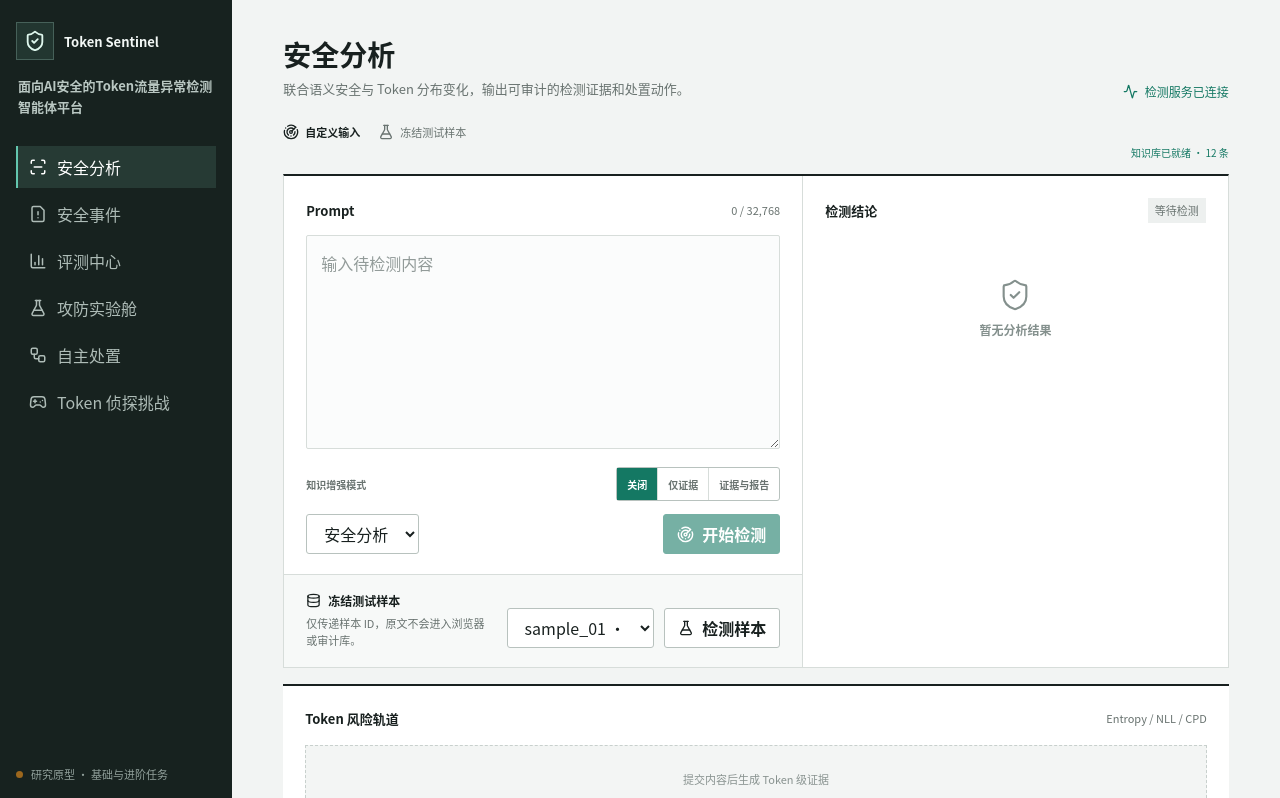
Test: competition security console › sends off as the default knowledge mode
Check: the text "检测服务已连接" is shown, box x1=1123 y1=83 x2=1229 y2=100
Step 1. Type "SAFE_TEST_INPUT" into the text box labelled "Prompt" → [543, 342], box x1=306 y1=235 x2=780 y2=449
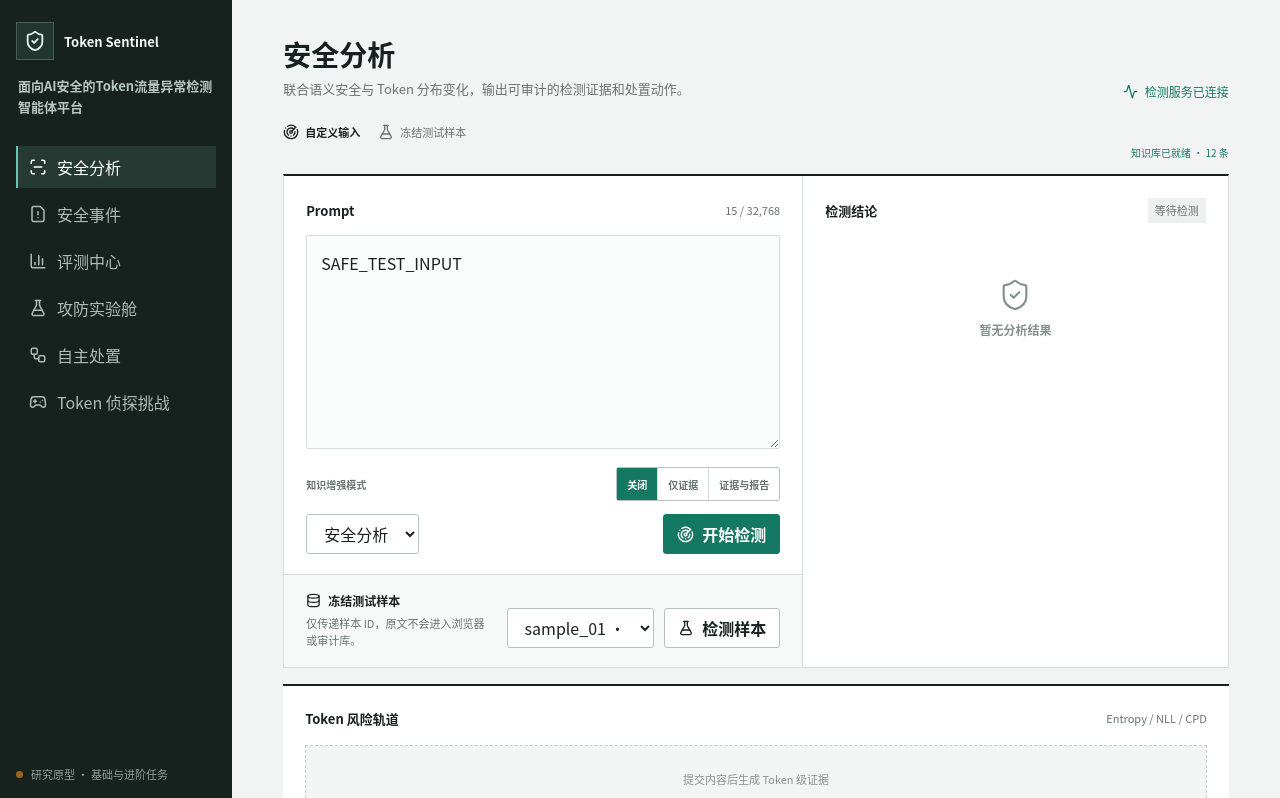
Step 2. Click the button "开始检测" → [722, 534], box x1=663 y1=514 x2=780 y2=554
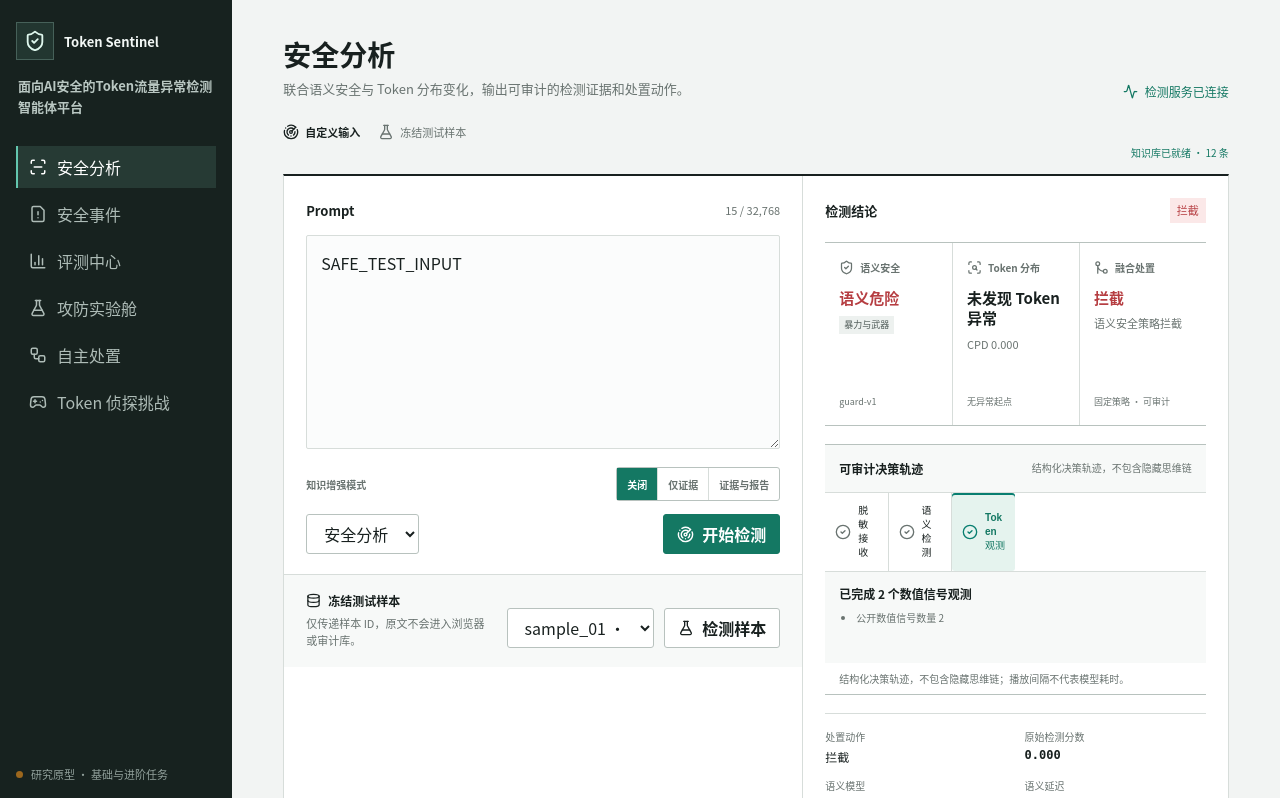
Check: the text "语义危险" is shown, box x1=839 y1=288 x2=899 y2=308
